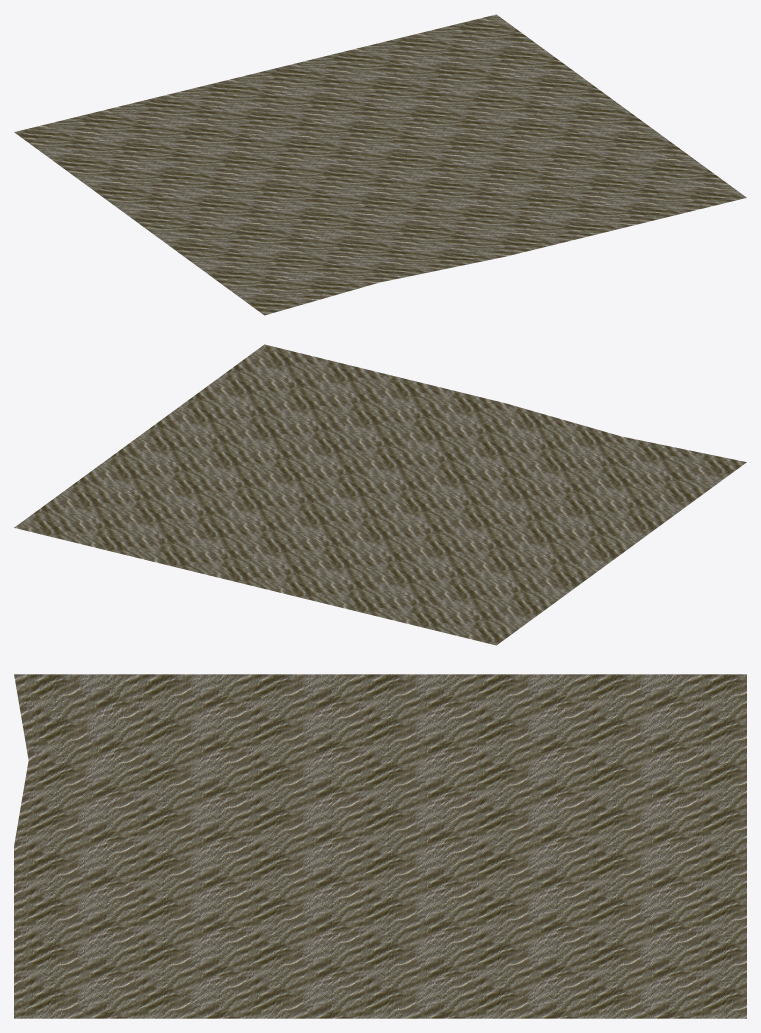
The model's file is GM_Water.FBX.
3 renders of one model, top to bottom at view 1: azimuth 30°, elevation 25°; view 2: azimuth 150°, elevation 25°; view 3: azimuth 270°, elevation 25°, orthographic. The views are drawn at different scales.
Parts seen in each view (by area): view 1: Plane01; view 2: Plane01; view 3: Plane01.
Part boxes in pixels (x1,y1,x2,y2): Plane01: [14, 14, 746, 315]; Plane01: [14, 344, 746, 645]; Plane01: [14, 674, 746, 1018].
Size of the model in its own units: 11230 by 10098 by 0.
1 material, 1 textured.
